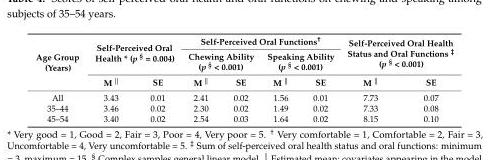table: (35, 34, 453, 123)
table column: (340, 34, 400, 123), (400, 34, 453, 123), (35, 34, 86, 123), (86, 34, 133, 123), (133, 34, 180, 123), (299, 34, 340, 123), (180, 34, 220, 123), (259, 34, 299, 123), (220, 34, 259, 123)
table column header: (35, 34, 453, 90)
table row: (35, 48, 453, 73), (35, 73, 453, 90), (35, 34, 453, 48), (35, 90, 453, 102), (35, 112, 453, 123), (35, 102, 453, 112)
table spanning cell: (340, 34, 453, 73), (86, 34, 180, 73), (35, 34, 86, 90), (180, 34, 340, 48), (259, 48, 340, 73), (180, 48, 259, 73)
